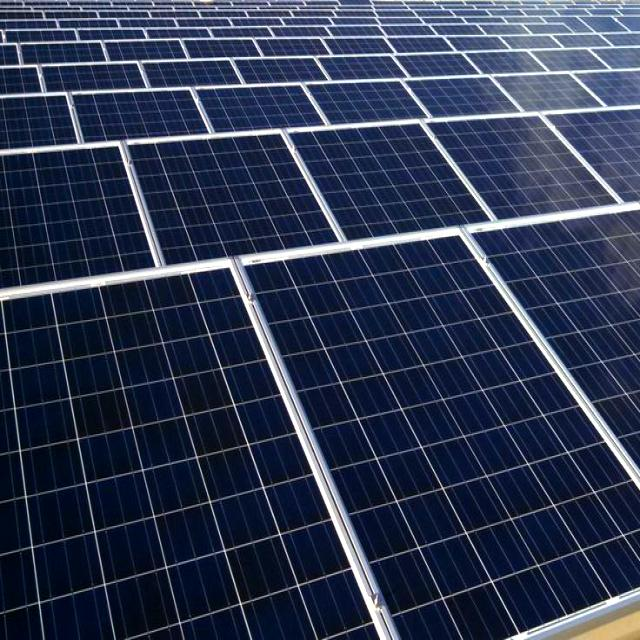crack: (0, 253, 404, 640), (237, 256, 640, 640), (273, 104, 521, 266), (115, 126, 356, 282), (423, 105, 624, 241), (0, 142, 163, 298)
